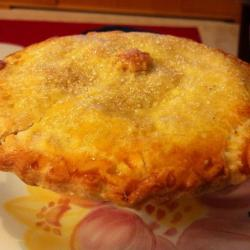apple_pie: (1, 27, 250, 213)
